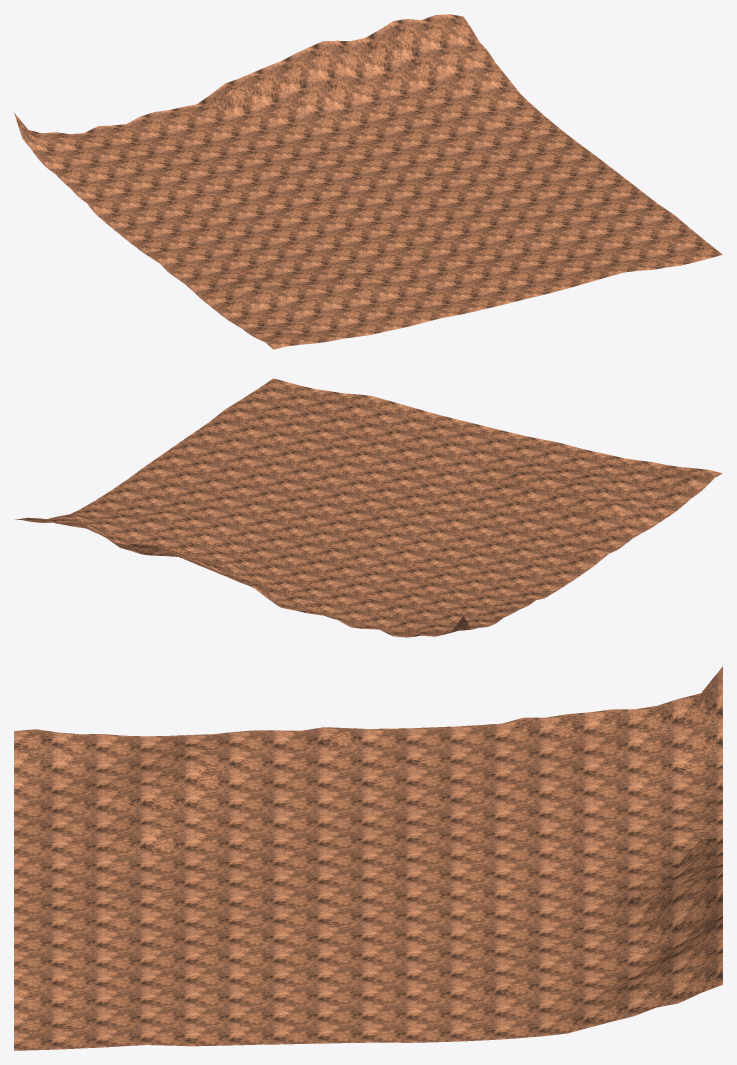
Rendered from terrain_04_13.dae.
3 views of the same model, one above another, from view 1: azimuth 30°, elevation 25°; view 2: azimuth 150°, elevation 25°; view 3: azimuth 270°, elevation 25° (orthographic). The views are drawn at different scales.
Parts seen in each view (by area): view 1: terrain_04_13-node; view 2: terrain_04_13-node; view 3: terrain_04_13-node.
Part boxes in pixels (x1=…): terrain_04_13-node: x1=14, y1=14, x2=722, y2=349; terrain_04_13-node: x1=15, y1=378, x2=722, y2=637; terrain_04_13-node: x1=14, y1=666, x2=722, y2=1050.
Bounding box in the file's own units: 128 × 128 × 17.14.
Materials: 1 (1 with a texture image).
